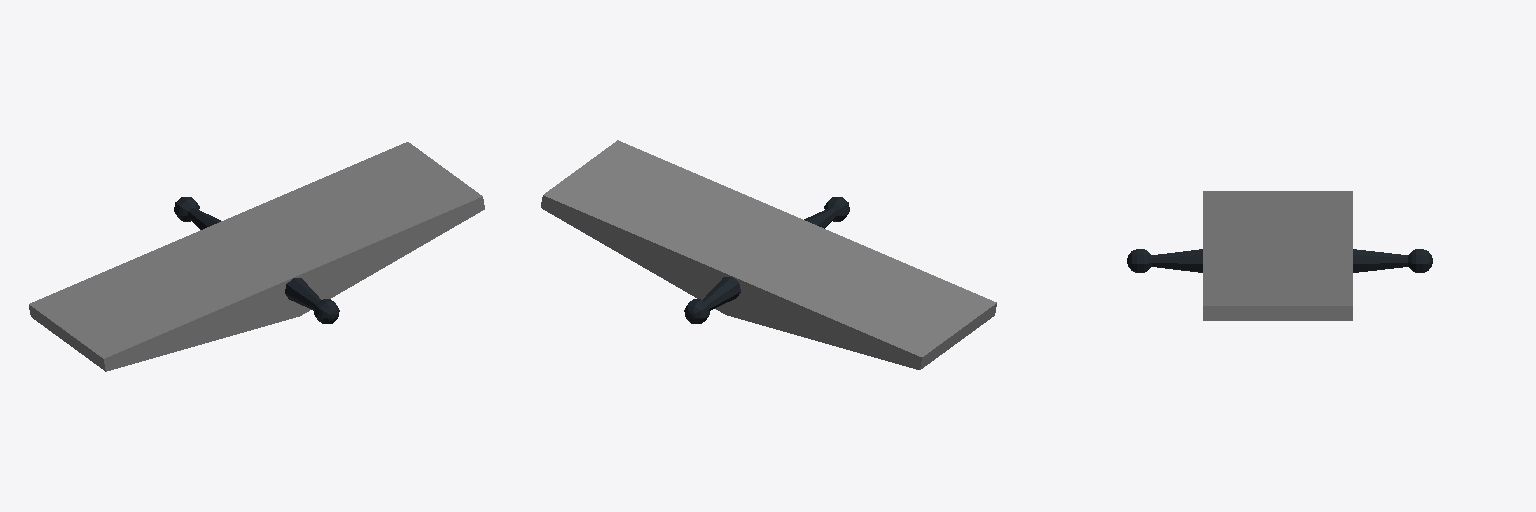
File: P_Modul_30_Wippe.obj
3 renders of one model, left to right at view 1: azimuth 30°, elevation 25°; view 2: azimuth 150°, elevation 25°; view 3: azimuth 270°, elevation 25°, orthographic.
Parts seen in each view (by area): view 1: P_Modul_30_Wippe; view 2: P_Modul_30_Wippe; view 3: P_Modul_30_Wippe.
Part boxes in pixels (x1,y1,x2,y2): P_Modul_30_Wippe: (29, 142, 484, 371); P_Modul_30_Wippe: (541, 140, 996, 369); P_Modul_30_Wippe: (1127, 191, 1432, 320).
Bounding box in the file's own units: 14.66 × 3.06 × 10.15.